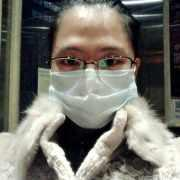OK: (51, 43, 135, 127)
